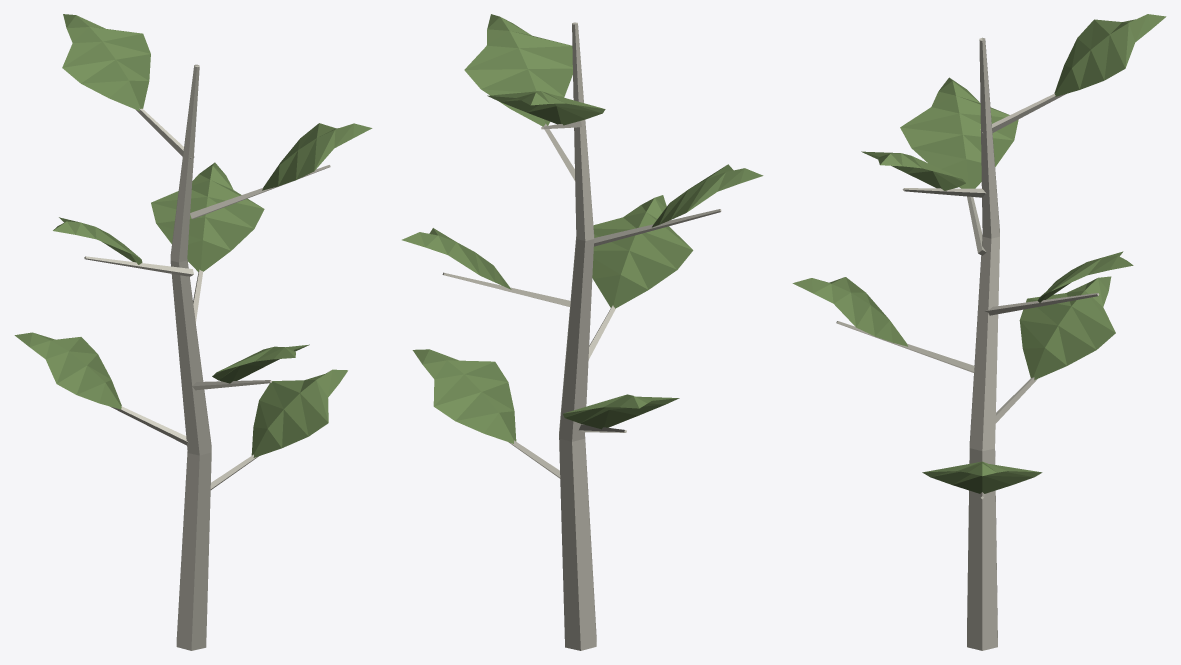
File: birch_sapling.glb
3 renders of one model, left to right at view 1: azimuth 30°, elevation 25°; view 2: azimuth 150°, elevation 25°; view 3: azimuth 270°, elevation 25°, orthographic. The views are drawn at different scales.
Parts seen in each view (by area): view 1: leaves, branches; view 2: leaves, branches; view 3: leaves, branches.
Part boxes in pixels (x1,y1,x2,y2): leaves: (14, 14, 372, 457); branches: (84, 64, 330, 650); leaves: (402, 14, 763, 443); branches: (442, 22, 721, 650); leaves: (792, 14, 1166, 493); branches: (836, 37, 1099, 650).
Bounding box in the file's own units: 0.3374 × 0.6 × 0.3335.
